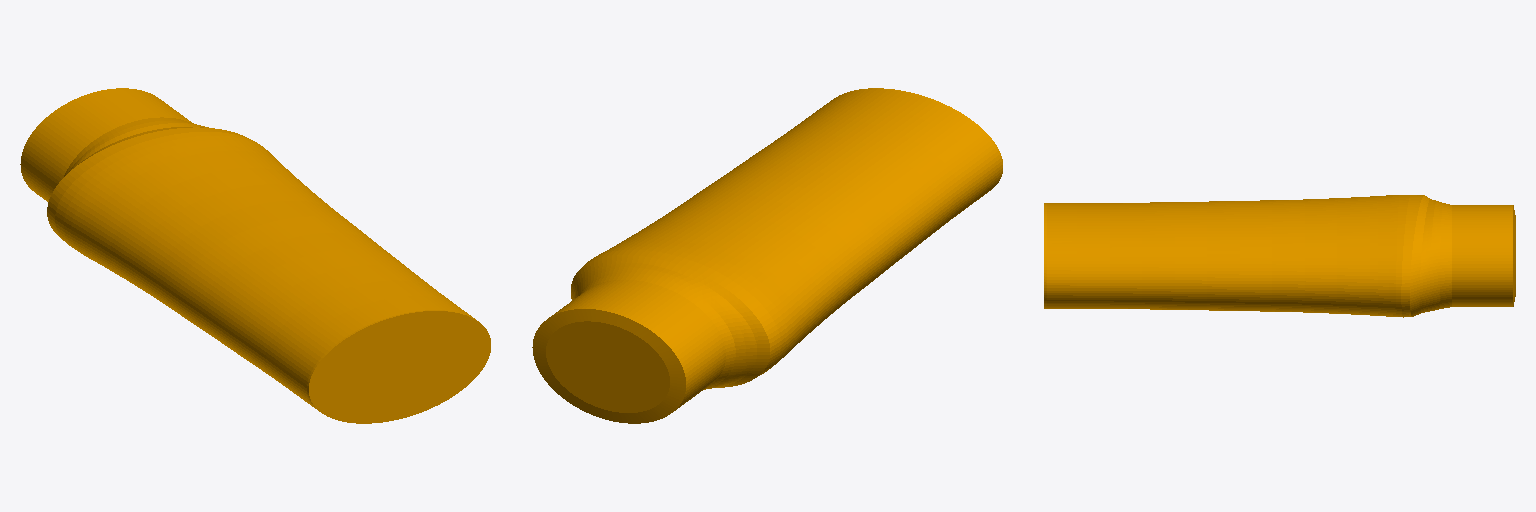
The robot description file, URDF, robot "SHAMPOO.urdf":
<?xml version="1.0" ?>
<robot name="SHAMPOO.urdf">
  <link name="baseLink">
    <contact>
      <lateral_friction value="0.5"/>
      <rolling_friction value="0.0"/>
      <contact_cfm value="0.0"/>
      <contact_erp value="1.0"/>
    </contact>
    <inertial>
      <origin rpy="0 0 0" xyz="0.0 0.0 0.0"/>
       <mass value=".1"/>
       <inertia ixx="1" ixy="0" ixz="0" iyy="1" iyz="0" izz="1"/>
    </inertial>
    <visual>
      <origin rpy="0 0 0" xyz="0 0 0"/>
      <geometry>
        <mesh filename="SHAMPOO.obj" scale=".05 .05 .05"/> #scale="1 1 1"
      </geometry>
    </visual>
    <collision>
      <origin rpy="0 0 0" xyz="0 0 0"/>
      <geometry>
	 <mesh filename="SHAMPOO.obj" scale=".05 .05 .05"/> #scale=".1 .1 .1"
      </geometry>
    </collision>
  </link>
</robot>

--- Render facts (derived) ---
The picture shows the robot from 3 angles, left to right: view 1: azimuth 30°, elevation 25°; view 2: azimuth 150°, elevation 25°; view 3: azimuth 270°, elevation 25°; orthographic projection.
Robot: SHAMPOO.urdf — 1 links, 0 joints (none); root link baseLink; default pose: all joints at 0.
Links seen in each view (by area): view 1: baseLink; view 2: baseLink; view 3: baseLink.
Boxes of the visible links, x1,y1,x2,y2 form: baseLink: (20, 88, 490, 423); baseLink: (532, 88, 1002, 423); baseLink: (1044, 195, 1515, 317).
Bounding box of the posed robot: 0.0756 × 0.186 × 0.0404 m (x, y, z).
1 mesh visuals loaded from 1 distinct referenced files (1 OBJ).